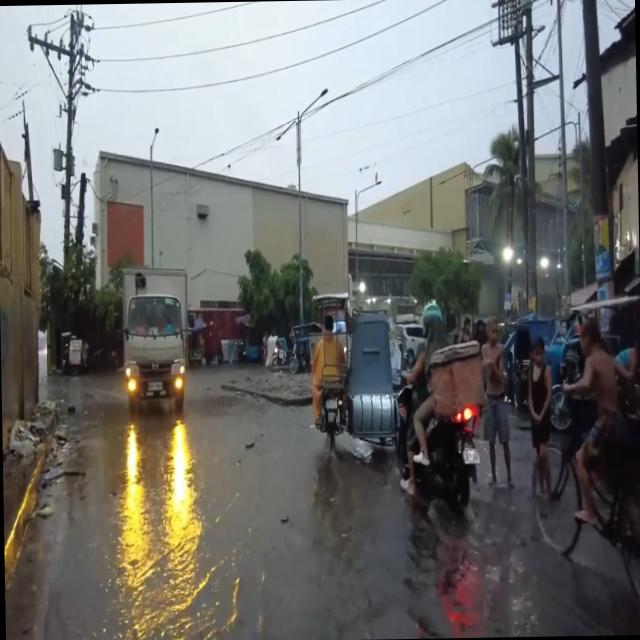full: (420, 300, 442, 336)
